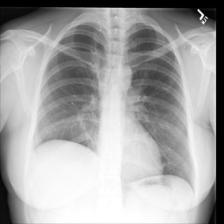normal: (28, 21, 198, 197)
